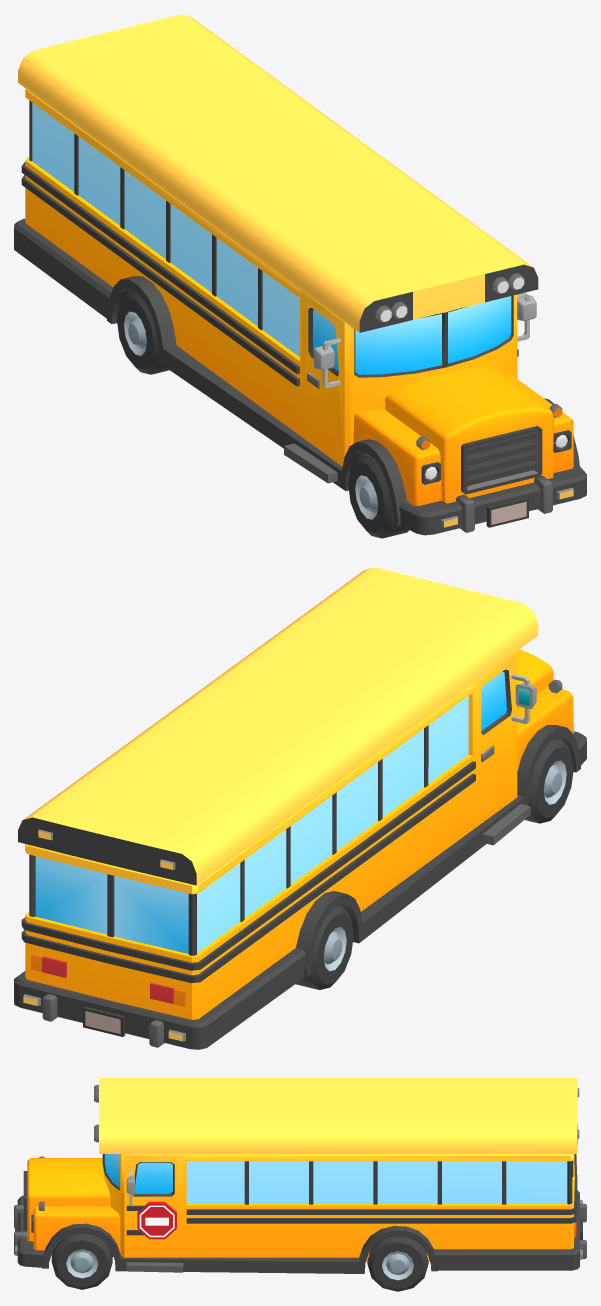
File: School_Bus_01.glb
The picture shows the model from 3 angles, top to bottom: view 1: azimuth 30°, elevation 25°; view 2: azimuth 150°, elevation 25°; view 3: azimuth 270°, elevation 25°; orthographic projection. The views are drawn at different scales.
Parts seen in each view (by area): view 1: School_Bus_01, Wheel_197, Wheel_198; view 2: School_Bus_01, Wheel_197, Wheel_198; view 3: School_Bus_01, Wheel_199, Wheel_200.
Boxes of the visible parts, left/top/right/bottom form: School_Bus_01: left=14, top=14, right=586, bottom=535; Wheel_197: left=348, top=452, right=409, bottom=538; Wheel_198: left=117, top=289, right=169, bottom=374; School_Bus_01: left=14, top=567, right=586, bottom=1049; Wheel_197: left=525, top=738, right=573, bottom=823; Wheel_198: left=295, top=905, right=353, bottom=989; School_Bus_01: left=14, top=1078, right=586, bottom=1273; Wheel_199: left=51, top=1233, right=112, bottom=1289; Wheel_200: left=367, top=1236, right=428, bottom=1291.
Size of the model in its own units: 2.97 by 2.89 by 9.64.
2 materials, 2 textured.
